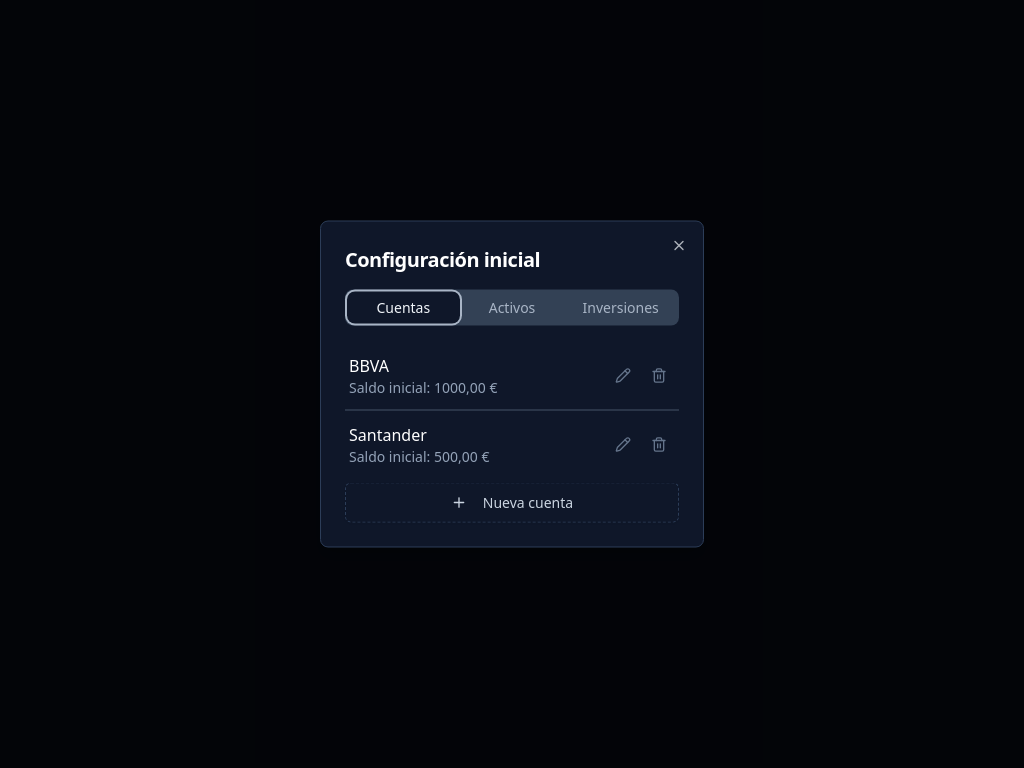
Scenario: AccountsModal › shows confirm delete buttons when delete is clicked
Click the button named "Eliminar BBVA" at [659, 376], box x1=643 y1=360 x2=675 y2=392
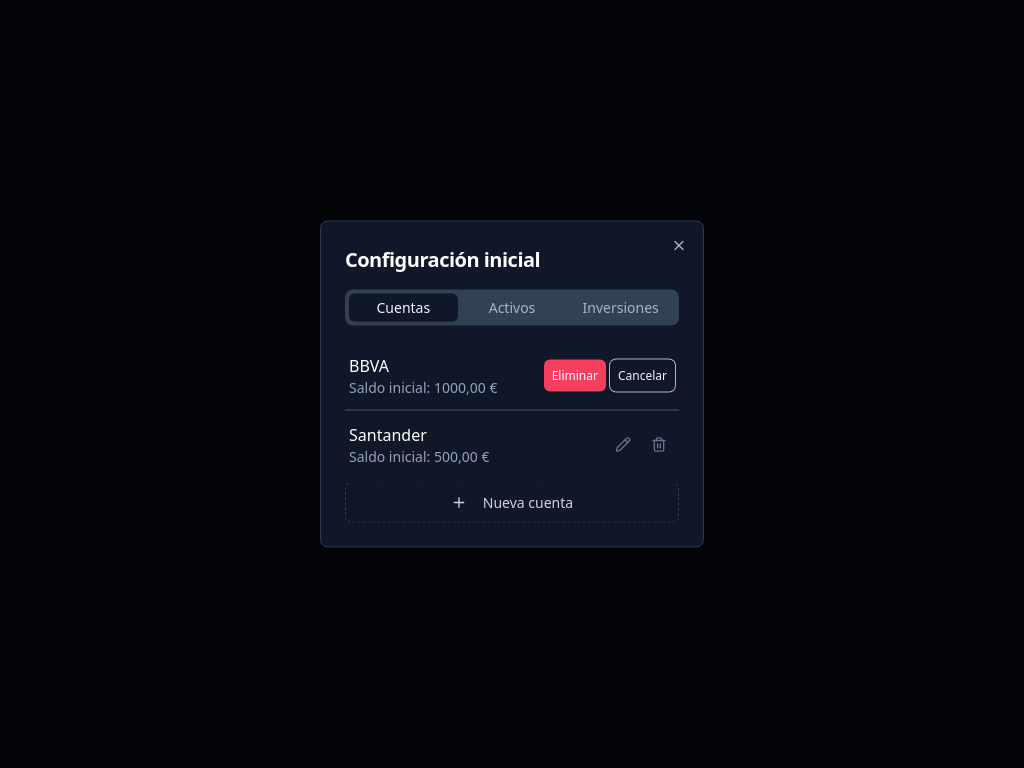
Expected: the button with aria-label "Confirmar eliminación de BBVA" is shown, x1=544 y1=360 x2=606 y2=392
Expected: the button "Cancelar" is shown, x1=610 y1=360 x2=675 y2=392
